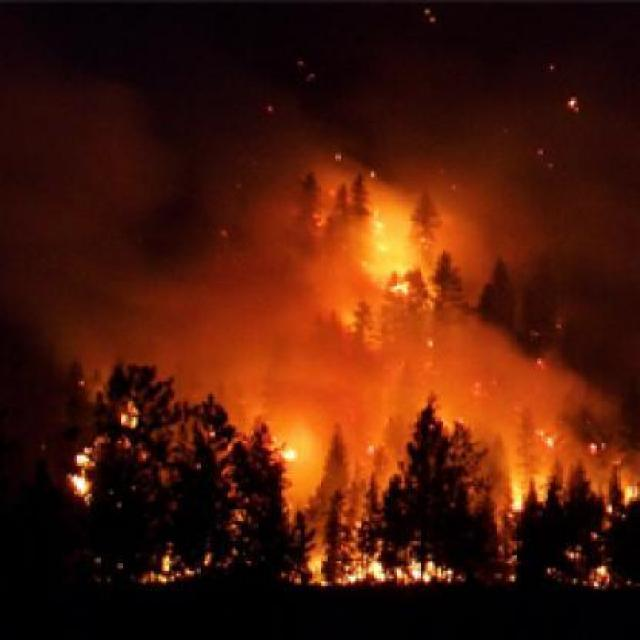Fire: (319, 164, 456, 338), (45, 382, 153, 520), (291, 527, 462, 604)
